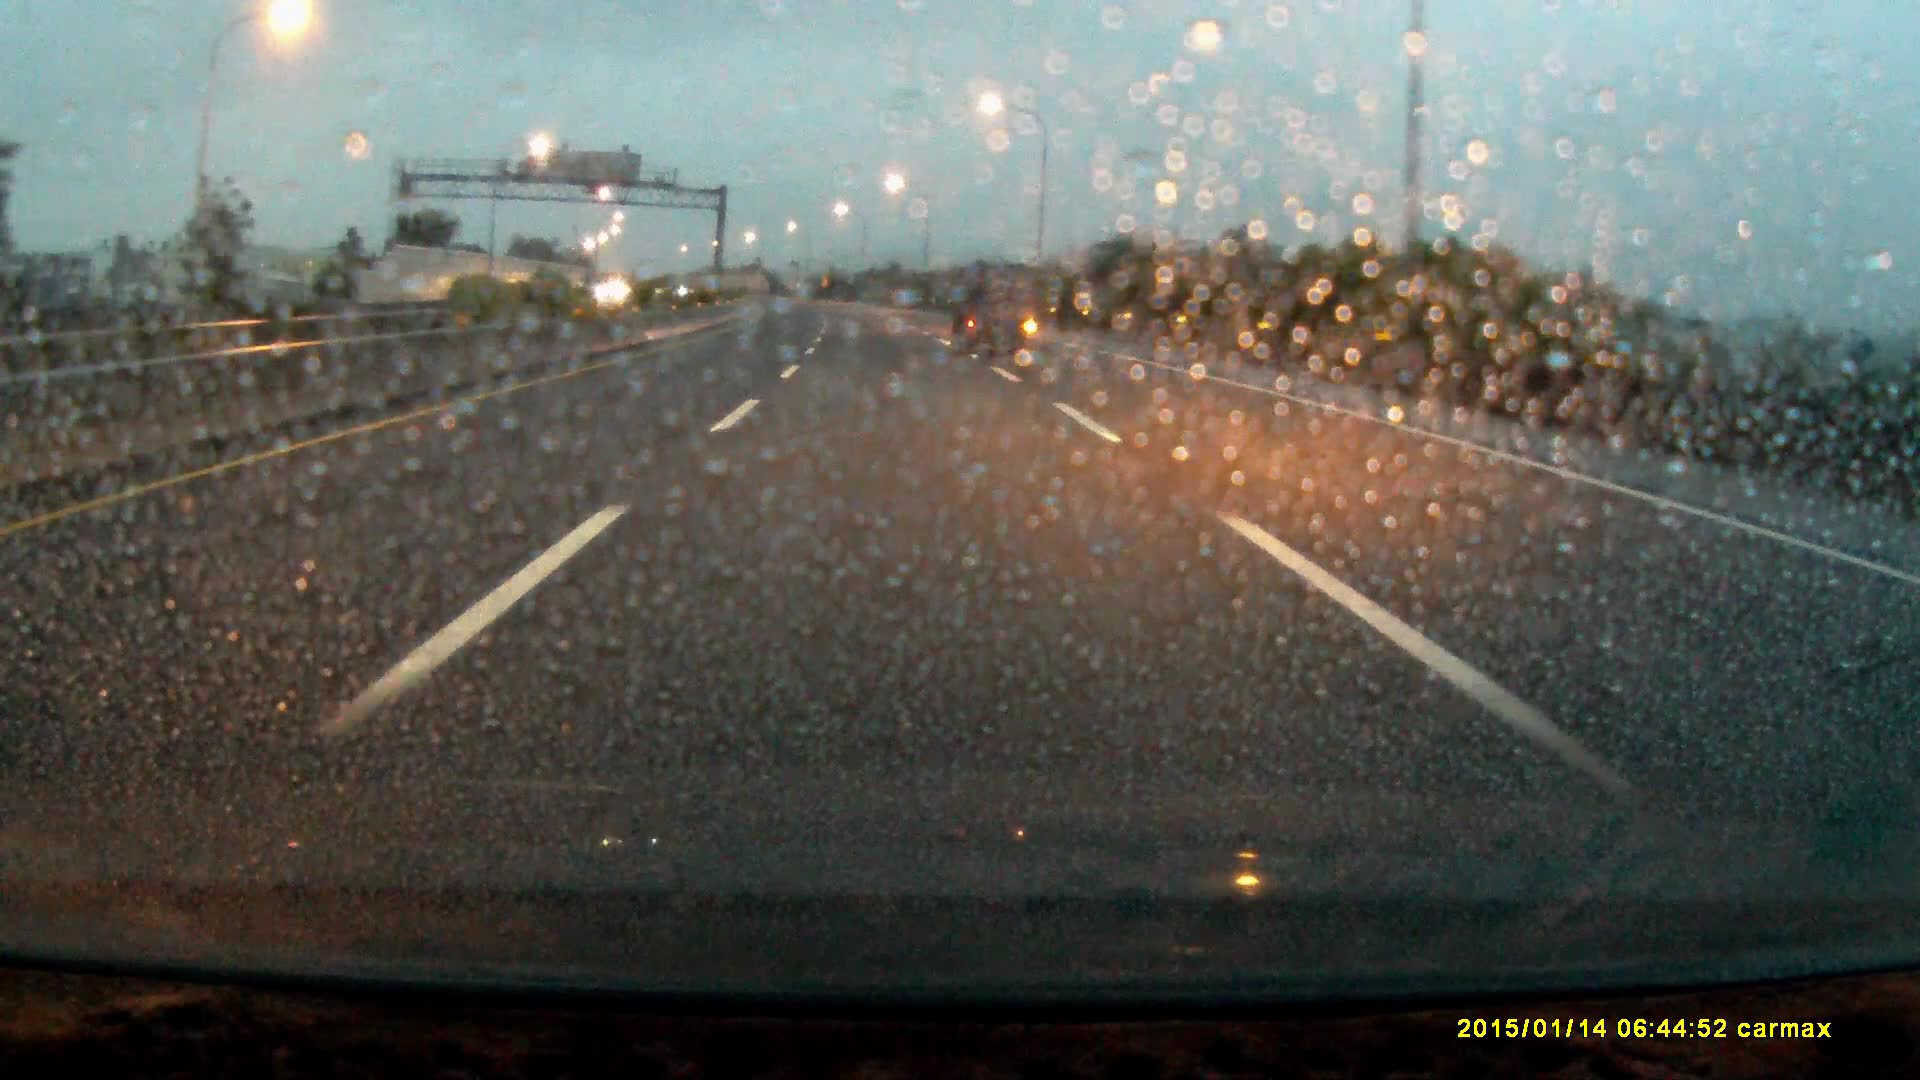vehicle: (952, 272, 1036, 360)
